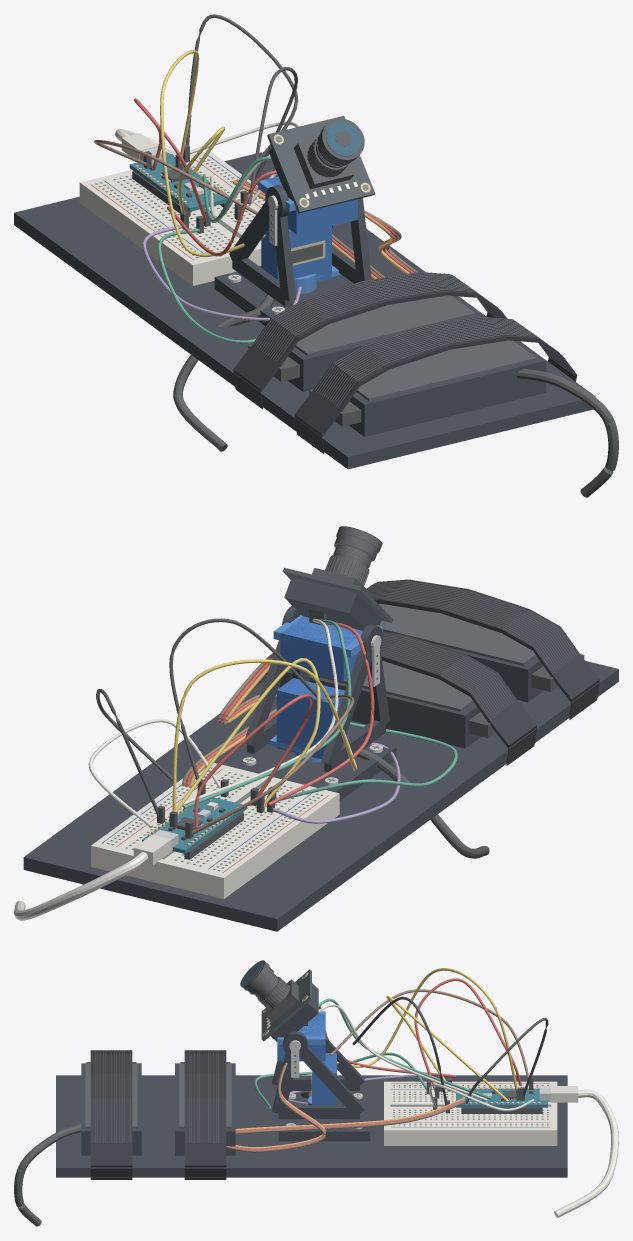
File: JARVIS.glb
3 renders of one model, top to bottom at view 1: azimuth 30°, elevation 25°; view 2: azimuth 150°, elevation 25°; view 3: azimuth 270°, elevation 25°, orthographic. The views are drawn at different scales.
Visible parts, largest first — view 1: Mounting plate / chassis, Woven fastening straps / strap, Breadboard / cream, Strapped modules / edge, Strapped modules / chassis, Strap stitching / edge, Tilt bracket / chassis, Power cable / black, Camera PCB / pcb, Jumper wiring / yellow, Pan mount / chassis, Pan servo / blue (+15 smaller); view 2: Mounting plate / chassis, Woven fastening straps / strap, Breadboard / cream, Strapped modules / edge, Strap stitching / edge, Strapped modules / chassis, Tilt bracket / chassis, Pan mount / chassis, Tilt servo / blue, Pan servo / blue, Jumper wiring / yellow, Camera mounting cradle / chassis (+19 smaller); view 3: Mounting plate / chassis, Woven fastening straps / strap, Breadboard / cream, Tilt bracket / chassis, Strap stitching / edge, Strapped modules / chassis, USB cable / white, Pan mount / chassis, Jumper wiring / yellow, Strapped modules / edge, Servo cable bundle / brown, Power cable / black (+18 smaller).
Part boxes in pixels (x1,y1,x2,y2): Mounting plate / chassis: (14,152,595,469); Woven fastening straps / strap: (233,272,576,453); Breadboard / cream: (79,151,265,285); Strapped modules / edge: (295,295,536,400); Strapped modules / chassis: (287,296,546,436); Strap stitching / edge: (253,272,559,406); Tilt bracket / chassis: (229,185,371,306); Power cable / black: (173,294,618,497); Camera PCB / pcb: (267,115,375,213); Jumper wiring / yellow: (160,50,265,256); Pan mount / chassis: (214,266,353,325); Pan servo / blue: (261,226,331,281); Mounting plate / chassis: (23,661,618,931); Woven fastening straps / strap: (253,579,599,765); Breadboard / cream: (91,762,339,899); Strapped modules / edge: (289,603,536,711); Strap stitching / edge: (367,581,577,718); Strapped modules / chassis: (279,644,543,748); Tilt bracket / chassis: (245,606,389,771); Pan mount / chassis: (229,735,396,800); Tilt servo / blue: (280,616,362,681); Pan servo / blue: (276,678,348,759); Jumper wiring / yellow: (172,658,357,811); Camera mounting cradle / chassis: (284,577,381,630); Mounting plate / chassis: (56,1075,567,1177); Woven fastening straps / strap: (90,1050,226,1179); Breadboard / cream: (384,1081,557,1145); Tilt bracket / chassis: (272,1031,364,1119); Strap stitching / edge: (94,1050,224,1142); Strapped modules / chassis: (81,1063,235,1155); USB cable / white: (551,1086,618,1217); Pan mount / chassis: (278,1093,370,1141); Jumper wiring / yellow: (337,968,517,1102); Strapped modules / edge: (85,1064,231,1128); Servo cable bundle / brown: (226,1062,464,1152); Power cable / black: (14,1090,311,1226).
Size of the model in its own units: 0.1169 by 0.1202 by 0.2897.
